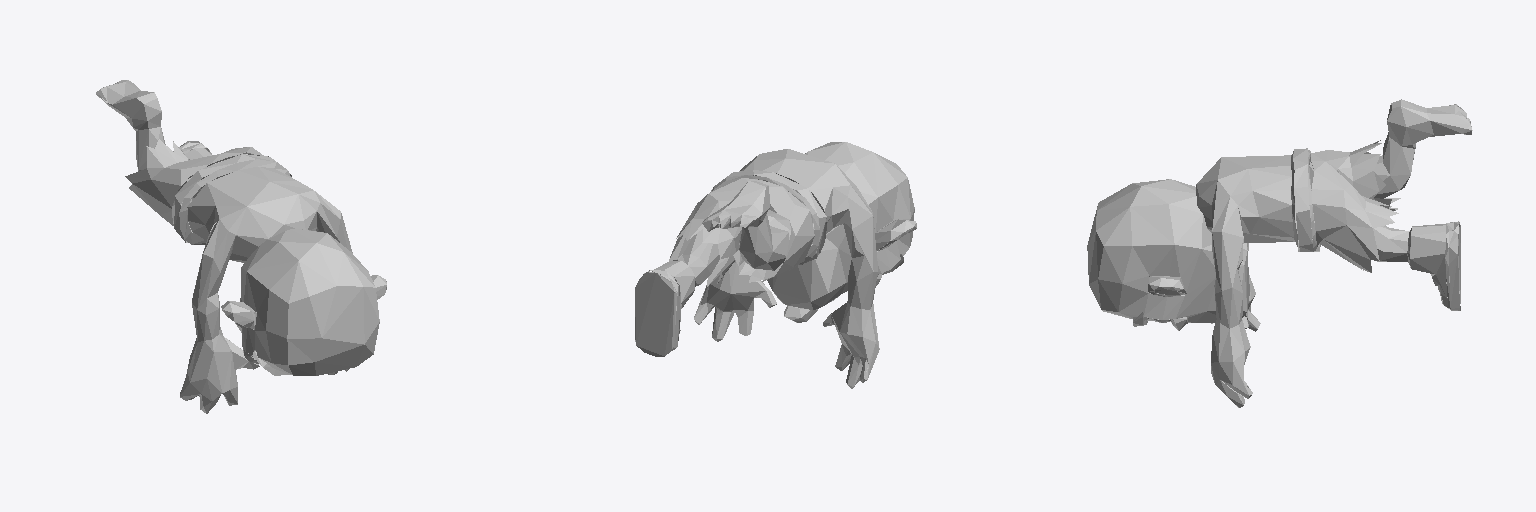
File: ZombieWalk0022.obj
3 renders of one model, left to right at view 1: azimuth 30°, elevation 25°; view 2: azimuth 150°, elevation 25°; view 3: azimuth 270°, elevation 25°, orthographic.
Parts seen in each view (by area): view 1: Zombie; view 2: Zombie; view 3: Zombie.
Boxes of the visible parts, x1,y1,x2,y2 form: Zombie: [96, 80, 386, 413]; Zombie: [635, 142, 916, 388]; Zombie: [1087, 99, 1472, 407].
Size of the model in its own units: 3 by 4.14 by 5.58.